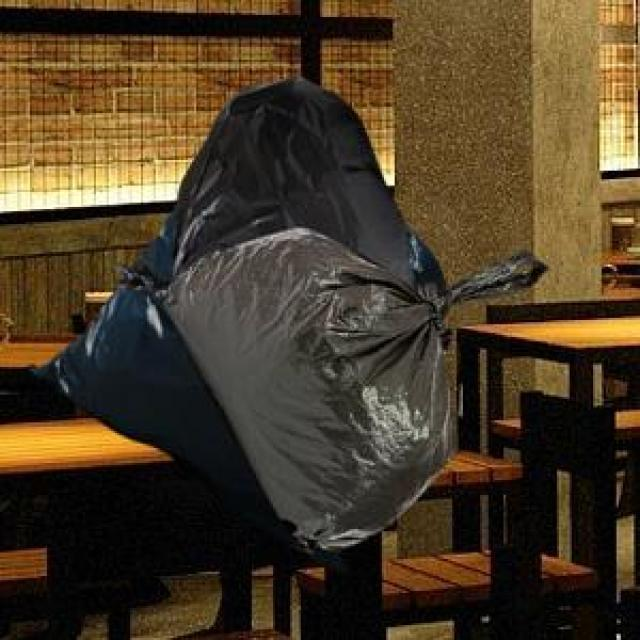Vinyl: (52, 79, 544, 551)
